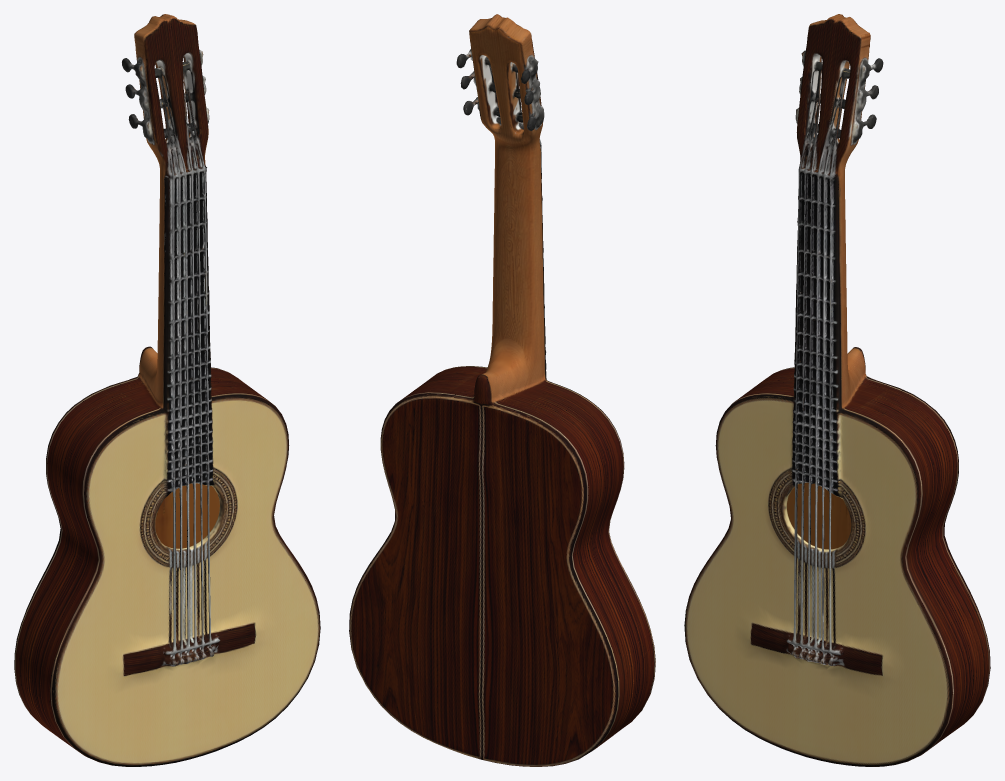
The model's file is guitar-classical.glb.
3 renders of one model, left to right at view 1: azimuth 30°, elevation 25°; view 2: azimuth 150°, elevation 25°; view 3: azimuth 330°, elevation 25°, orthographic.
Visible parts, largest first — view 1: Retopo_Mesh_0; view 2: Retopo_Mesh_0; view 3: Retopo_Mesh_0.
Part boxes in pixels (x1,y1,x2,y2): Retopo_Mesh_0: [14, 14, 320, 766]; Retopo_Mesh_0: [349, 14, 655, 766]; Retopo_Mesh_0: [684, 14, 990, 766].
Bounding box in the file's own units: 0.7348 × 1.9 × 0.2291.
Materials: 1 (1 with a texture image).
